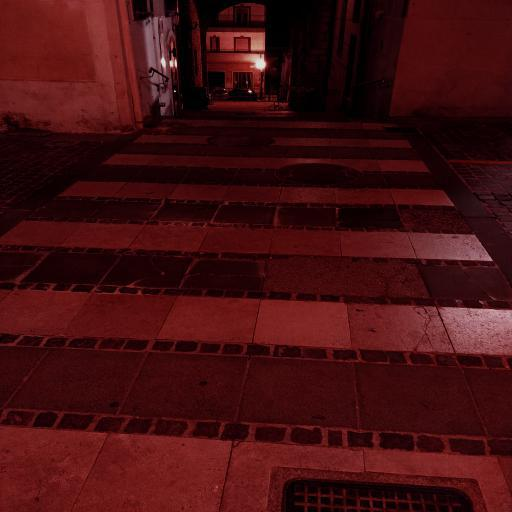crosswalk: (0, 215, 512, 375), (92, 134, 442, 176)
